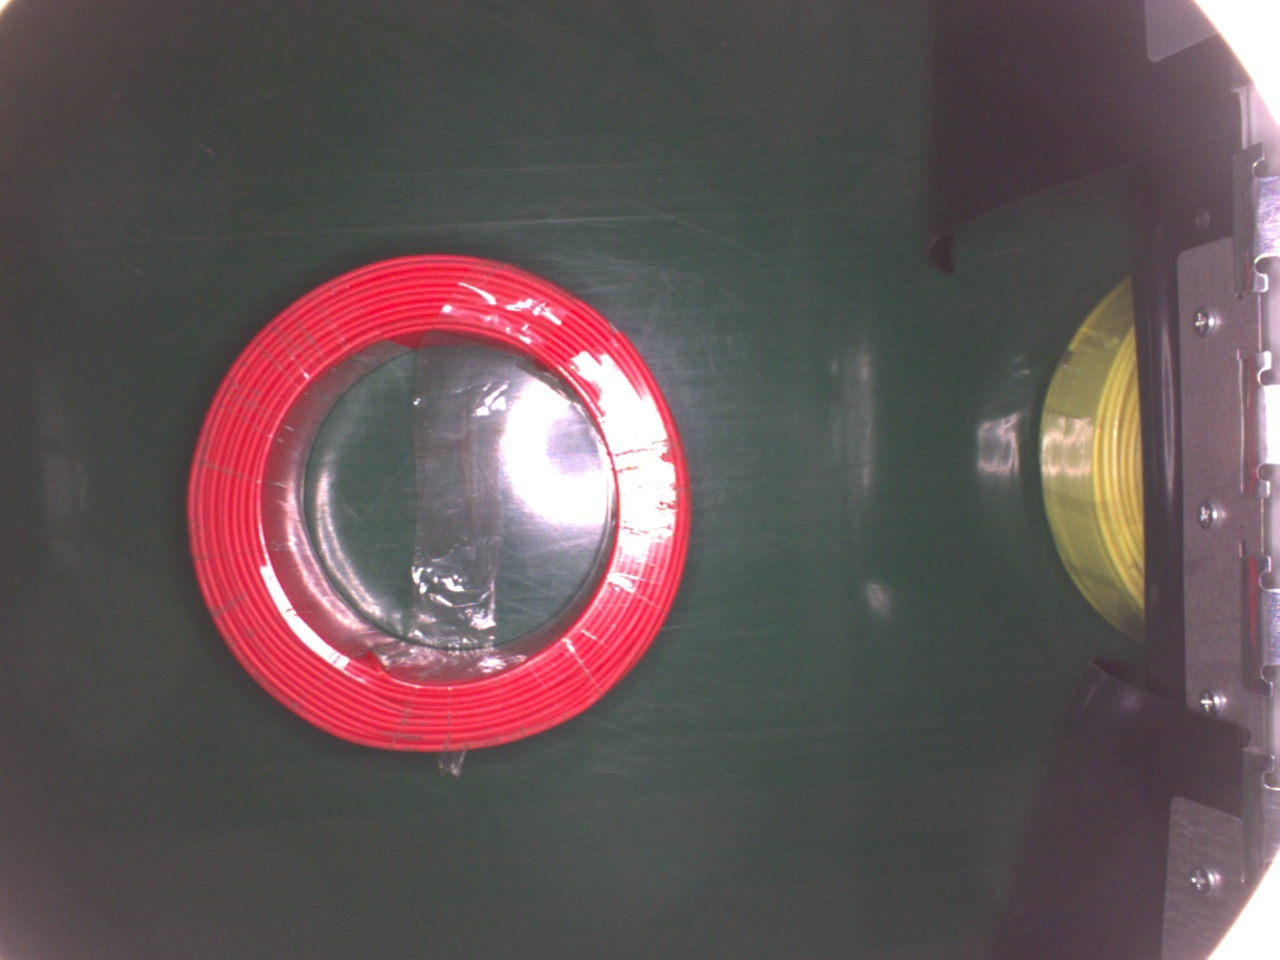red: (187, 249, 692, 754)
yellow: (1036, 264, 1149, 646)
